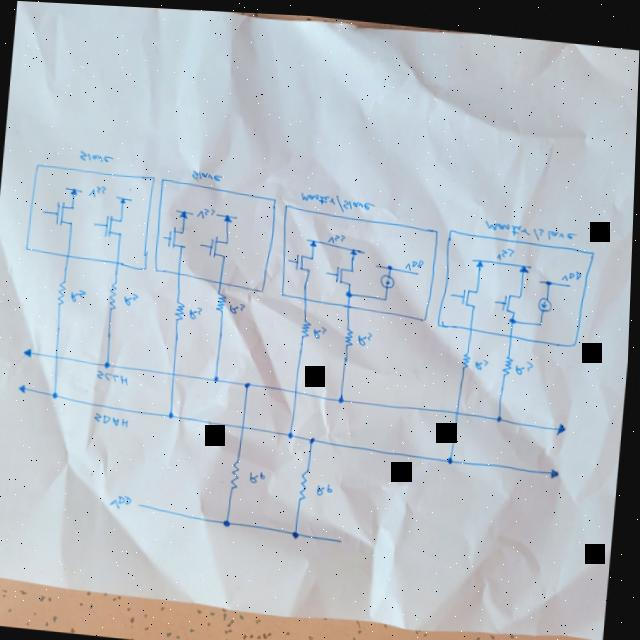crossover: (240, 420, 249, 428), (455, 403, 463, 412), (293, 384, 302, 392), (54, 352, 62, 360), (172, 368, 178, 374)
junction: (223, 515, 235, 526), (292, 525, 303, 536), (51, 389, 62, 400), (338, 391, 348, 401), (448, 451, 457, 461), (213, 372, 222, 381), (496, 409, 505, 418), (288, 427, 297, 436), (309, 432, 318, 441), (104, 360, 113, 368), (169, 409, 177, 417), (245, 378, 253, 386), (546, 273, 554, 280), (510, 312, 517, 319), (383, 291, 389, 298), (538, 315, 544, 322), (347, 287, 353, 293), (388, 259, 394, 265)
resistor: (299, 464, 314, 499), (231, 455, 245, 488), (108, 280, 121, 310), (215, 288, 229, 311), (56, 280, 68, 306), (502, 348, 515, 371), (174, 296, 187, 319), (300, 314, 313, 335), (344, 322, 356, 344), (462, 345, 474, 366)
source: (519, 257, 531, 269), (179, 207, 190, 218), (68, 186, 79, 195), (223, 212, 233, 221), (349, 245, 359, 254), (309, 235, 318, 243), (119, 197, 126, 204)
terminal: (305, 236, 368, 248), (472, 251, 534, 262), (374, 259, 422, 271), (539, 273, 573, 280), (556, 415, 570, 430), (549, 460, 563, 474), (23, 345, 36, 359), (17, 381, 30, 394), (215, 211, 239, 216), (64, 185, 84, 191), (116, 193, 135, 199), (475, 252, 485, 263), (175, 208, 195, 213), (339, 533, 347, 541), (493, 292, 500, 300), (449, 286, 456, 294), (41, 208, 49, 215), (198, 239, 205, 246), (92, 221, 100, 227), (324, 266, 331, 272), (140, 500, 147, 506), (286, 254, 292, 260), (163, 232, 169, 237)
text: (481, 213, 581, 237), (297, 186, 376, 210), (94, 411, 132, 427), (78, 149, 115, 164), (96, 369, 132, 384), (110, 491, 136, 509), (191, 167, 223, 181), (86, 183, 108, 199), (194, 204, 217, 219), (316, 478, 337, 494), (496, 240, 517, 256), (516, 353, 534, 371), (404, 253, 425, 268), (250, 466, 269, 482), (357, 327, 375, 343), (562, 263, 584, 276), (70, 287, 89, 302), (228, 298, 248, 312), (124, 290, 140, 306), (314, 320, 329, 336), (189, 304, 204, 319), (474, 352, 490, 366), (327, 229, 347, 240)
transistor: (50, 199, 76, 226), (103, 212, 126, 238), (334, 259, 358, 282), (501, 284, 522, 310), (166, 223, 188, 247), (209, 233, 230, 257), (295, 248, 316, 270), (461, 282, 480, 303)
